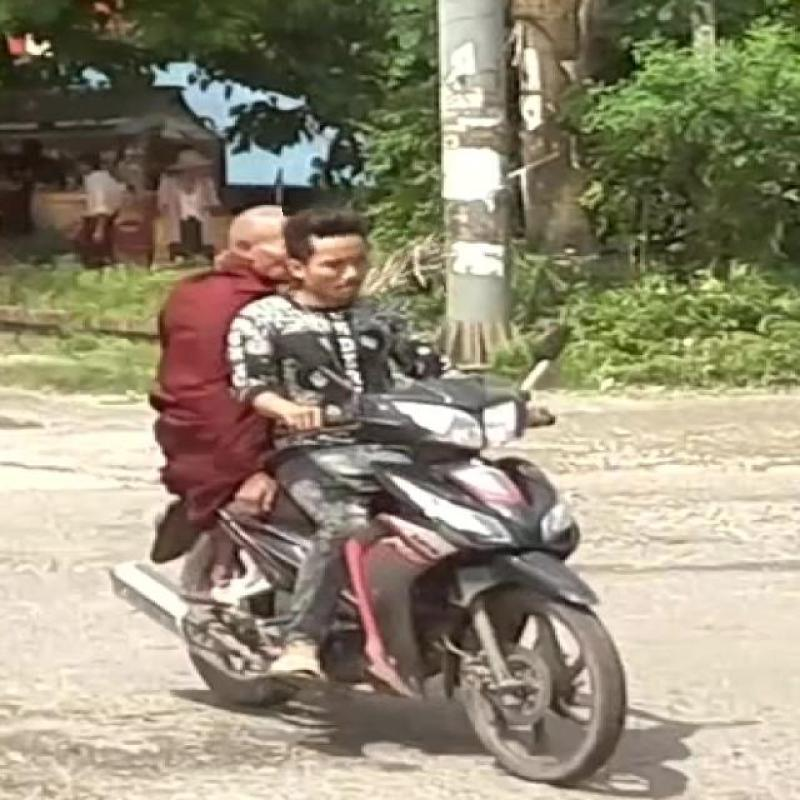nohelmet: (284, 195, 444, 313)
